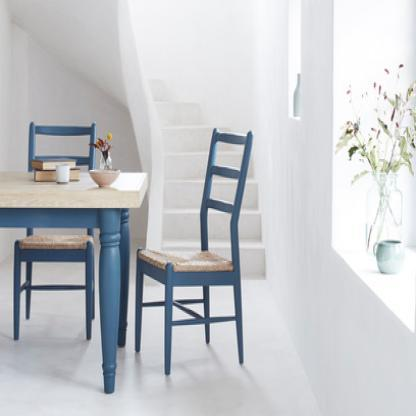chair: (134, 125, 259, 379), (10, 104, 101, 354)
table: (0, 162, 157, 390)
